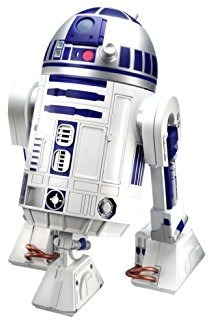r2d2: (8, 7, 205, 317)
